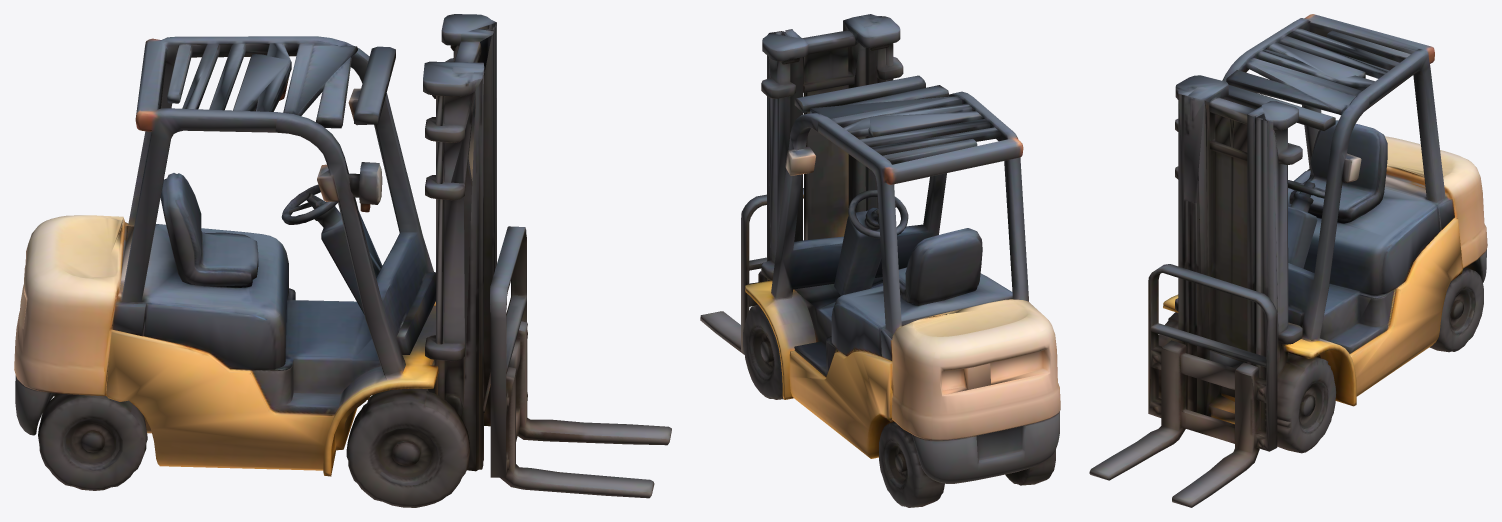
File: forklift_d3af6060_v4.glb
3 renders of one model, left to right at view 1: azimuth 30°, elevation 25°; view 2: azimuth 150°, elevation 25°; view 3: azimuth 270°, elevation 25°, orthographic. The views are drawn at different scales.
Visible parts, largest first — view 1: mesh_input; view 2: mesh_input; view 3: mesh_input.
Part boxes in pixels (bbox=[...]): mesh_input: bbox=[14, 14, 671, 507]; mesh_input: bbox=[700, 14, 1060, 507]; mesh_input: bbox=[1089, 14, 1487, 507].
Size of the model in its own units: 1.9 by 1.39 by 1.48.
Materials: 1 (1 with a texture image).
